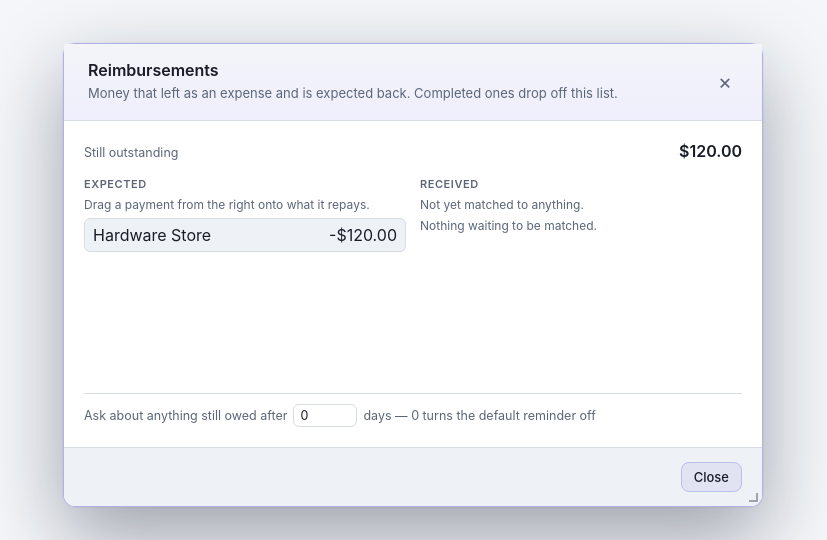
Test: an untracked row › opens an untracked expense in the reimbursement editor, writing nothing
Click the button "Hardware Store -$120.00": point(152, 234) top-left (85, 218), bottom-right (405, 250)
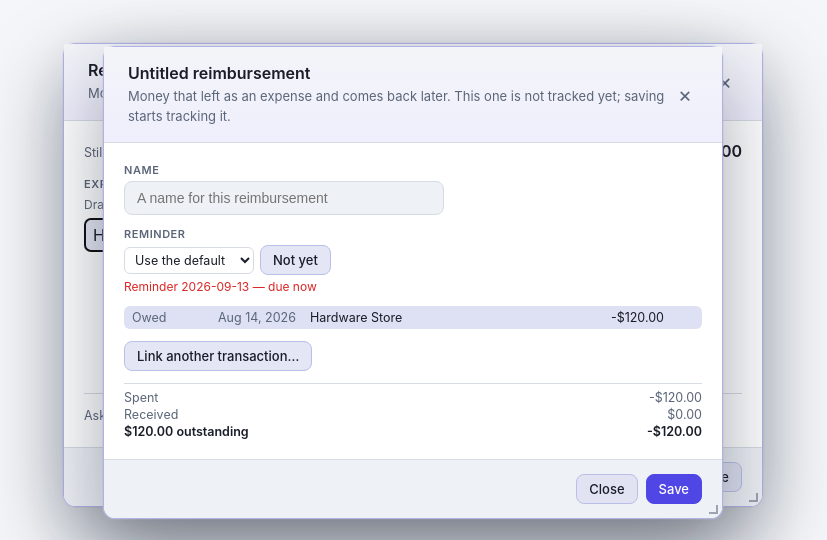
Result: the button "Save" is shown at top-left (646, 474), bottom-right (702, 504)
